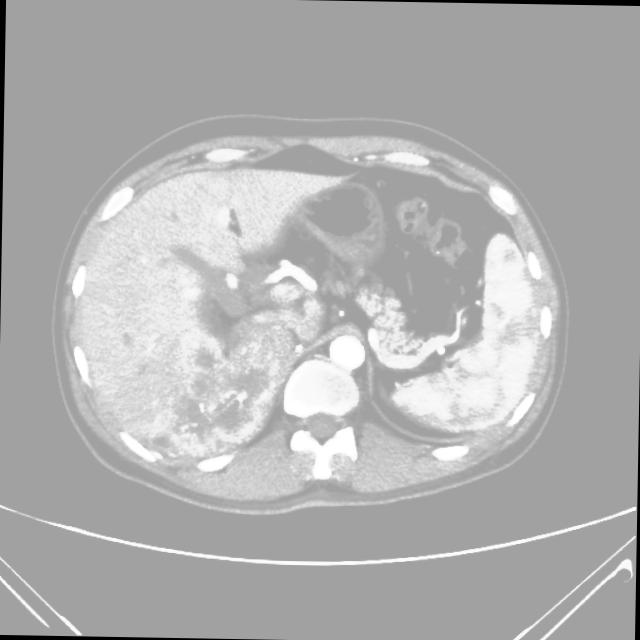TUMOR: (156, 173, 514, 403)
